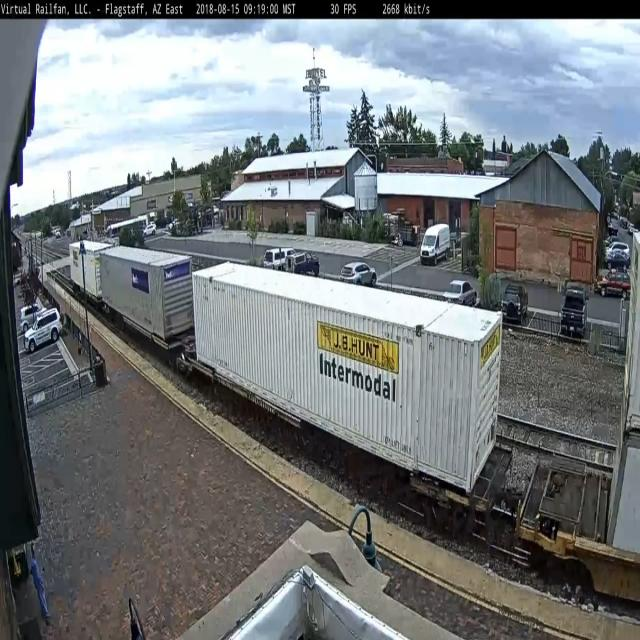container: (188, 252, 506, 514), (97, 241, 194, 343)
